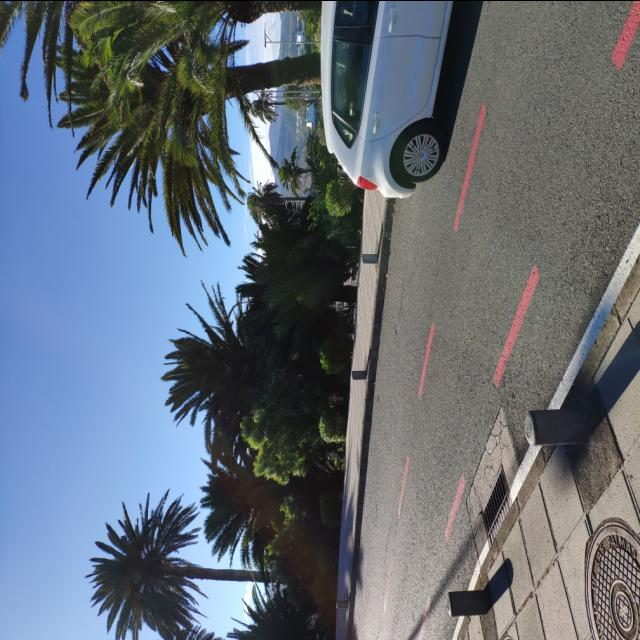Palm-Trees: (63, 0, 319, 237), (86, 483, 277, 640), (162, 280, 262, 448)
